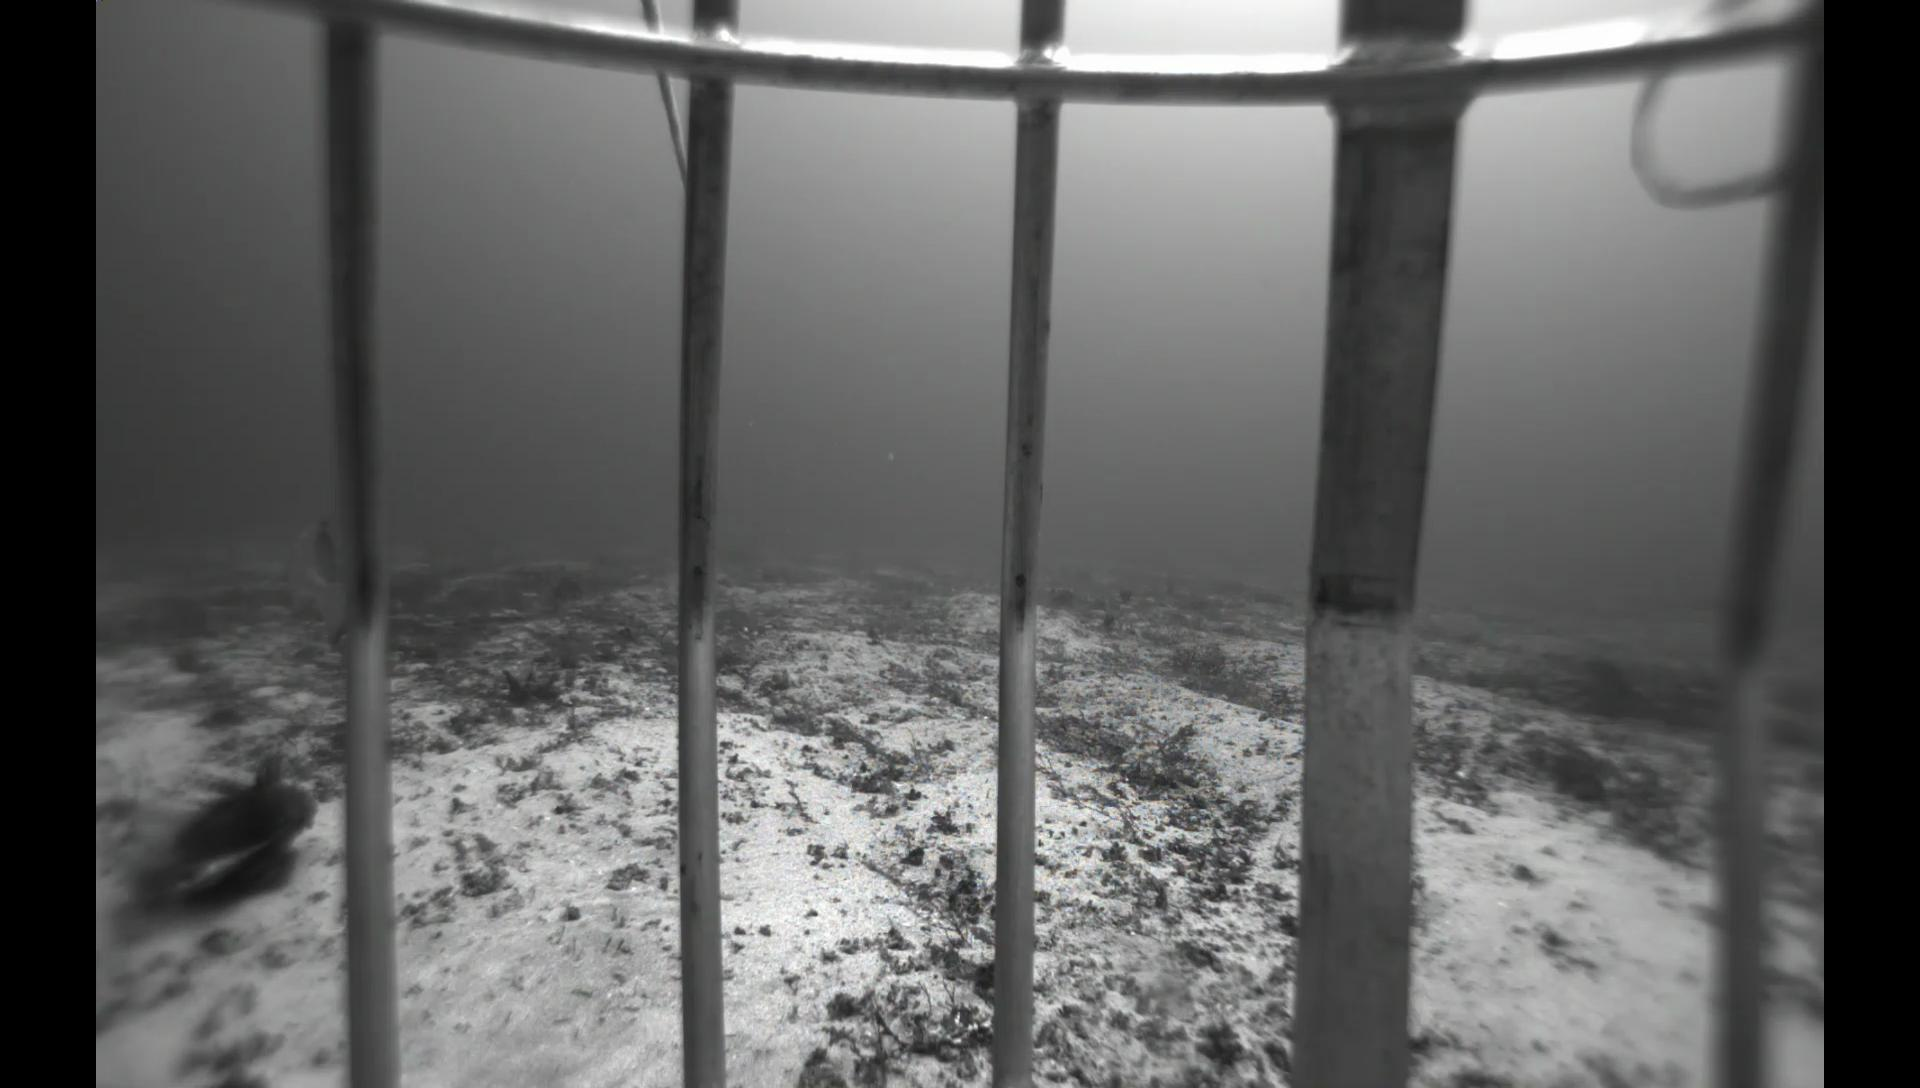EPINEPHELUSMORIO-170021211: (276, 504, 352, 655)
PTEROIS-168011900: (120, 713, 338, 924)
